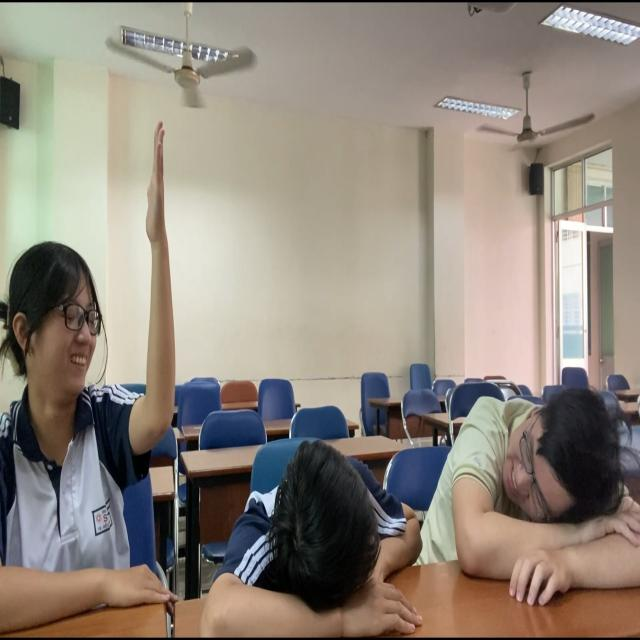raise_hand: (2, 118, 175, 640)
sleep: (429, 385, 640, 615), (216, 437, 426, 635)
